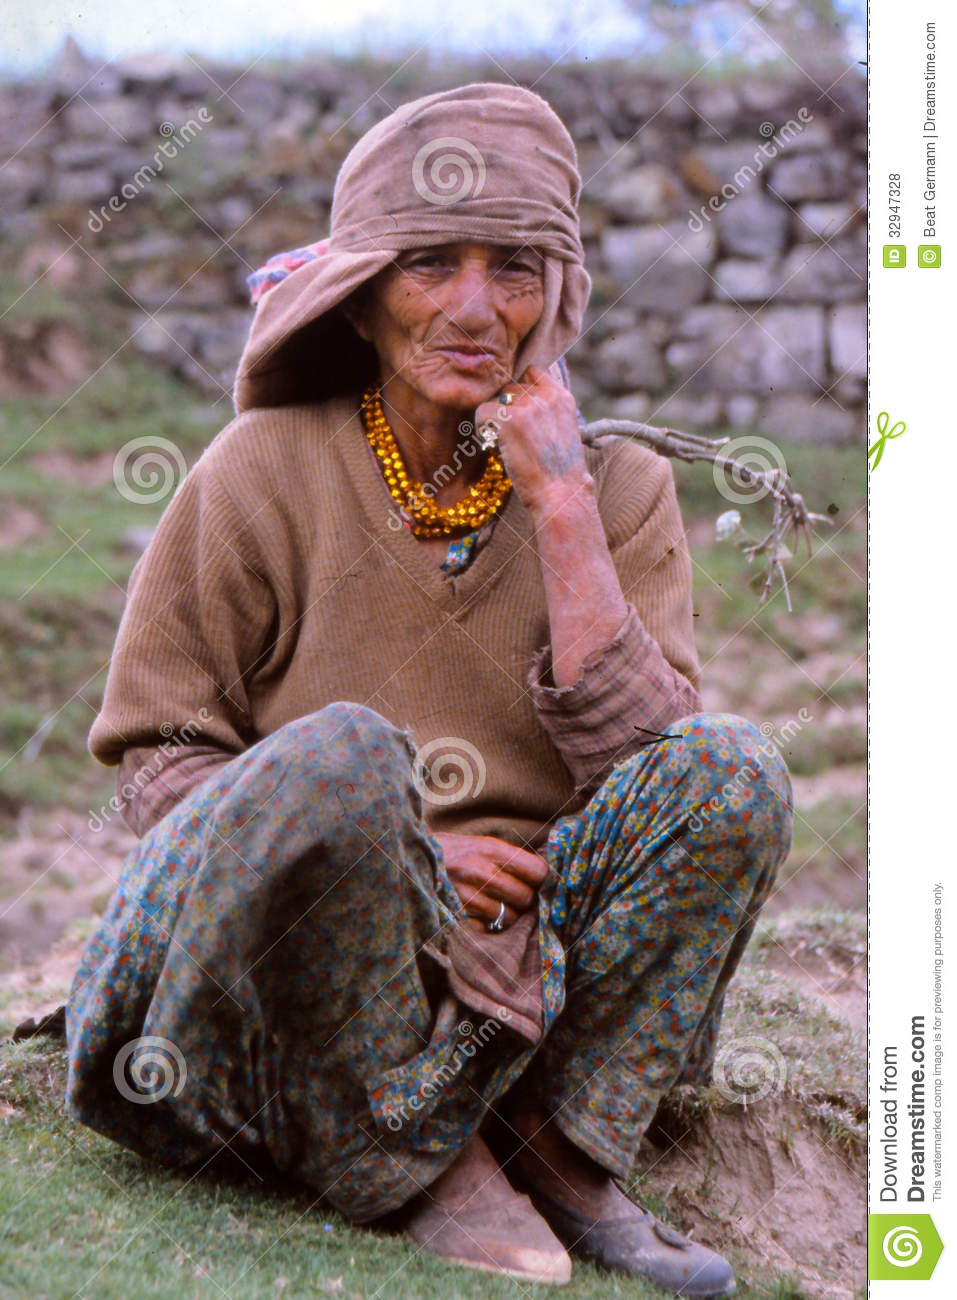human: (81, 83, 797, 1296)
